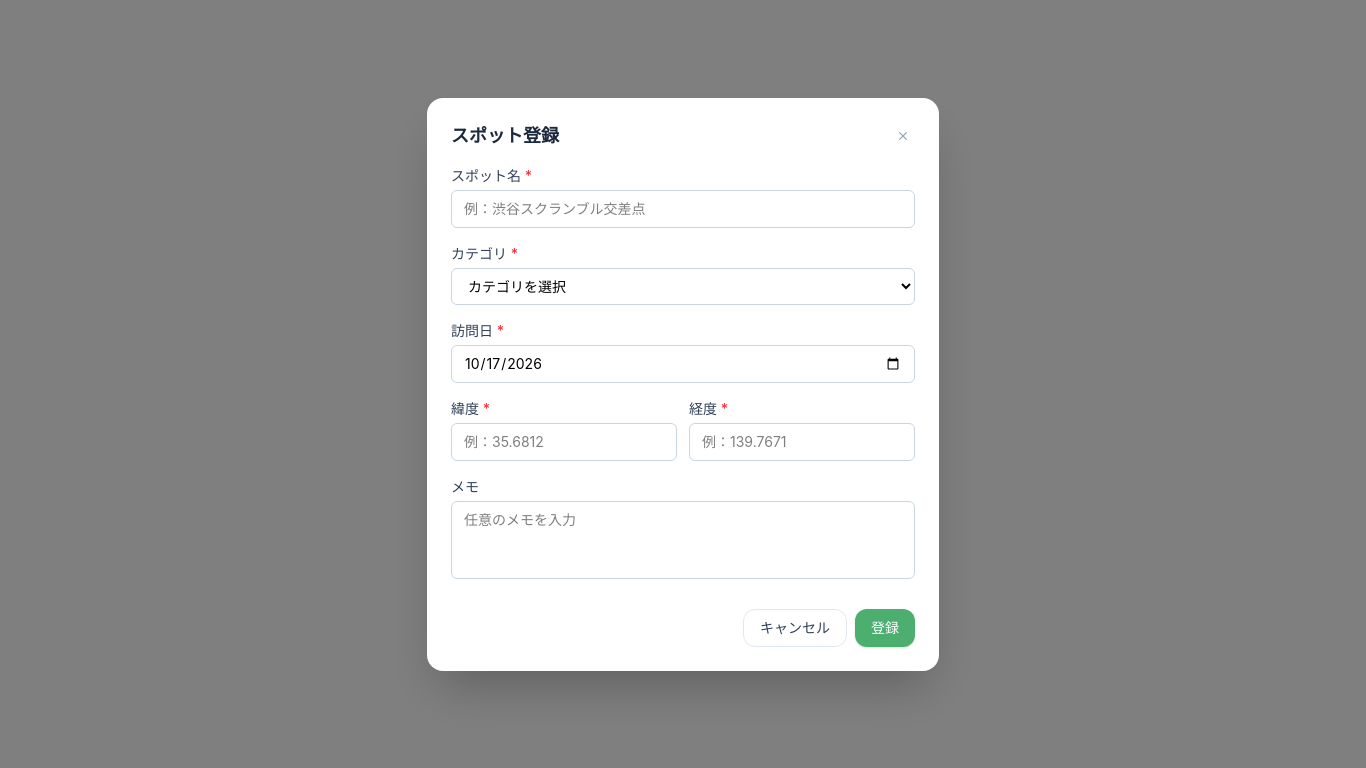
Test: SpotCreateModal › S-5: インライン追加でカテゴリ名が空なら API を呼ばずにエラーを表示する
Select "＋ 新しいカテゴリを追加" in the dropdown at [683, 286], box [451,268,915,304]
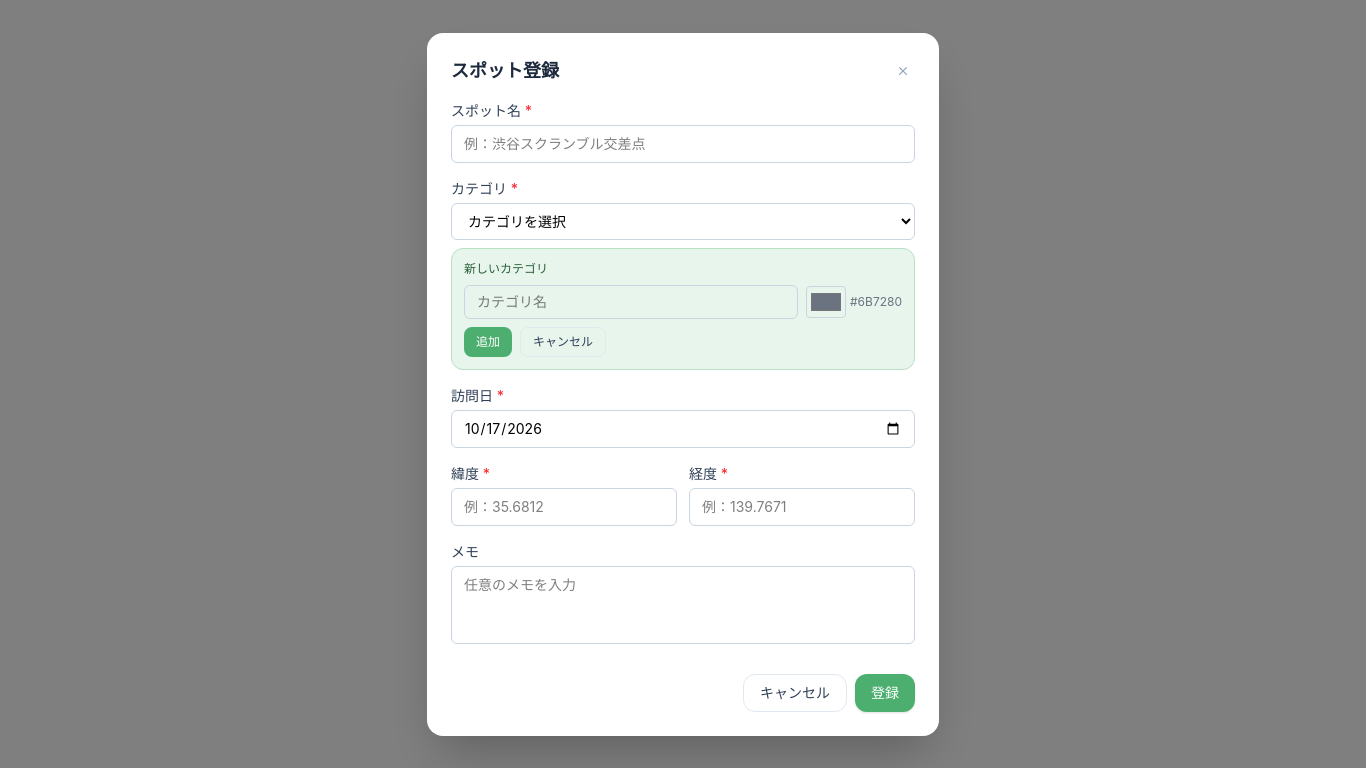
Click the button "追加" at [488, 342], box [464,326,512,356]
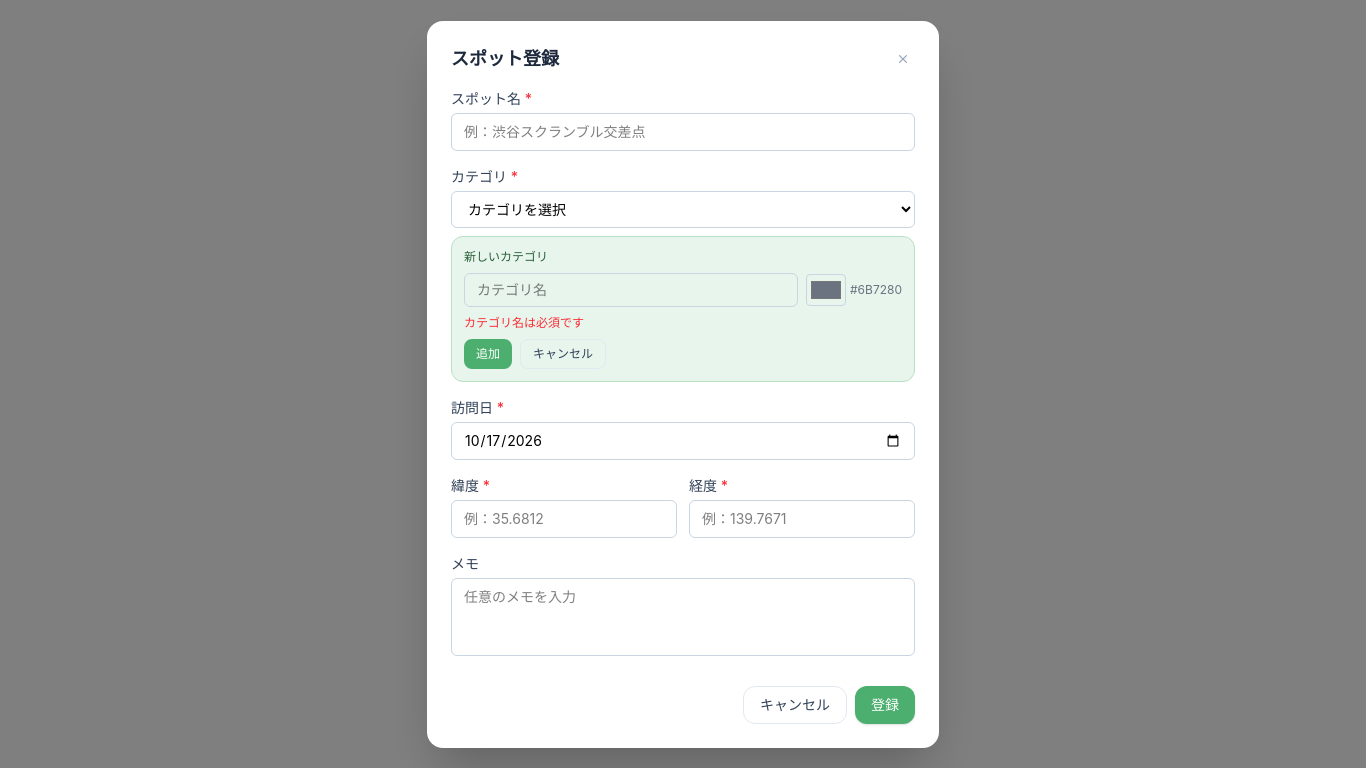
Check: the field with placeholder "カテゴリ名" is shown, box [464,272,798,306]
Check: the text "カテゴリ名は必須です" is shown, box [464,314,584,330]
